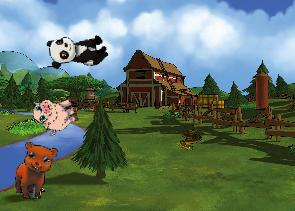bear: (14, 141, 58, 201)
panda: (46, 31, 109, 70)
pig: (29, 88, 82, 138)
